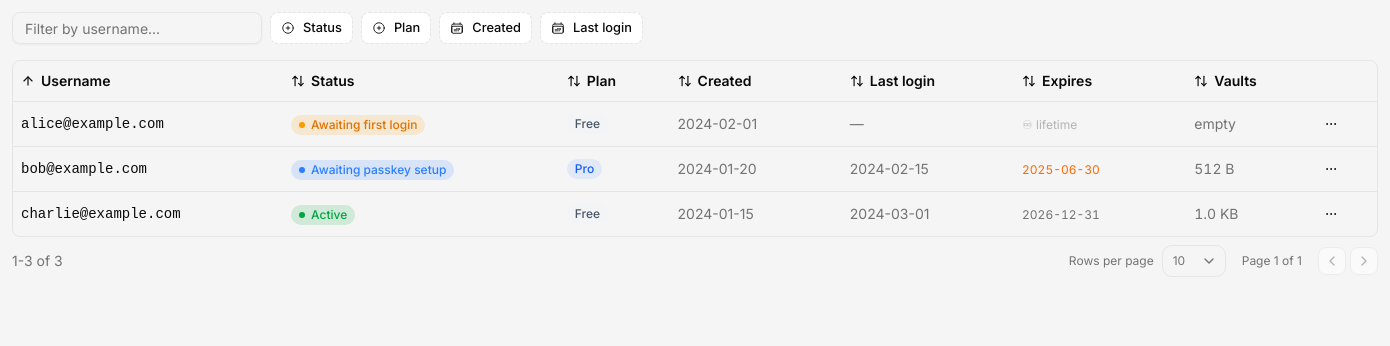
Scenario: UserList › shows Refresh OTP and Delete options only for pending_first_login users
The image size is (1390, 346).
Click the button named "Actions for alice@example.com" at (1331, 124), box [1317,110,1345,138]
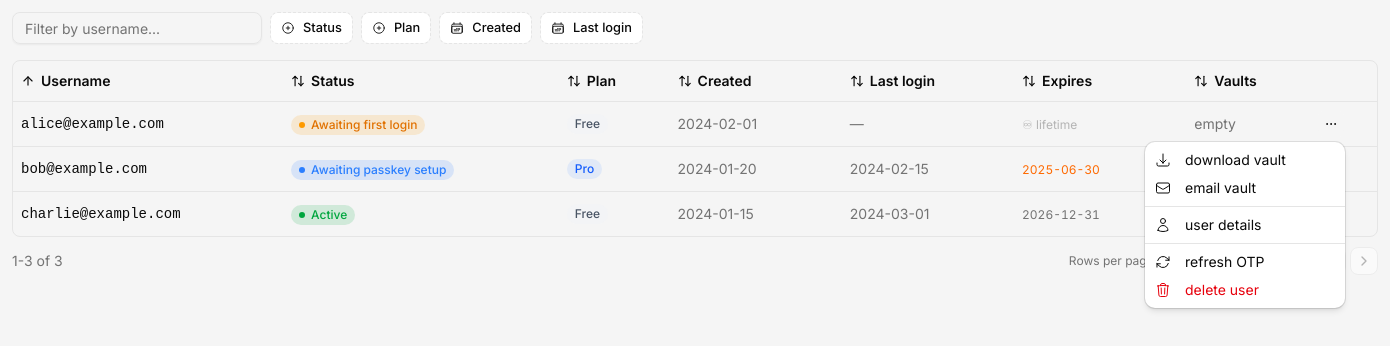
Expected: the menu item "refresh OTP" is shown, [1155,253,1264,270]
Expected: the menu item "delete user" is shown, [1155,281,1259,298]
Press Escape
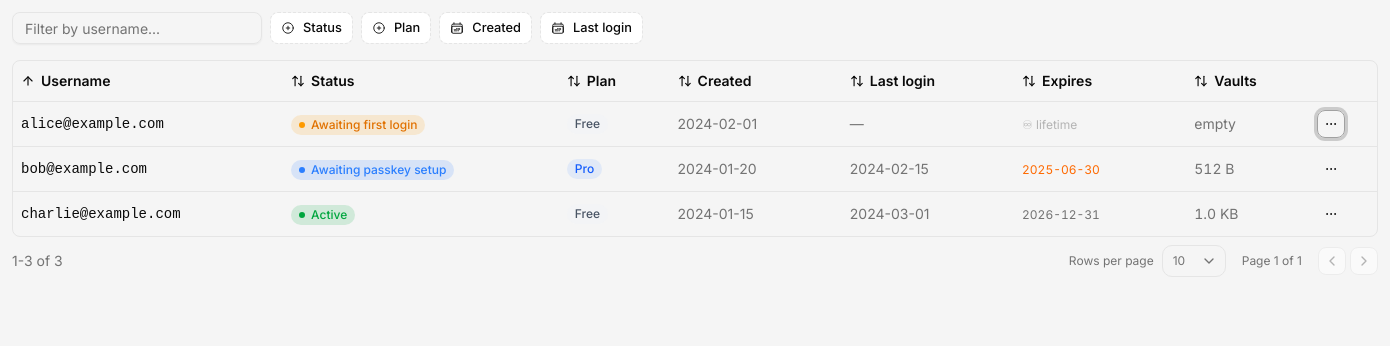
Click the button named "Actions for bob@example.com" at (1331, 168), box [1317,154,1345,182]
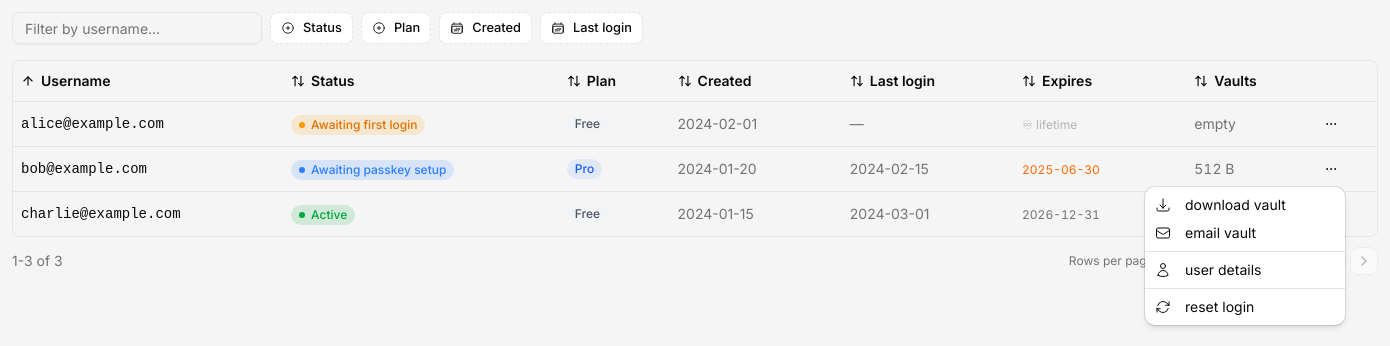
Expected: the menu item "refresh OTP" is not shown
Expected: the menu item "download vault" is shown, [1155,196,1286,213]
